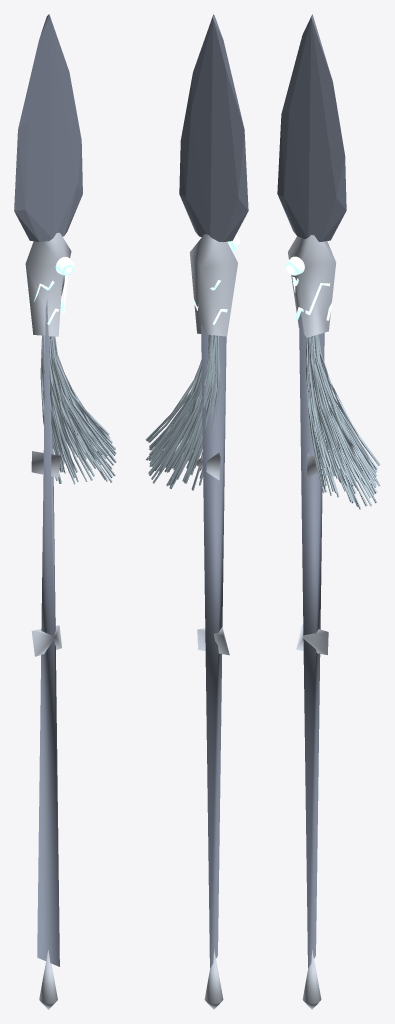
Rendered from phong-dinh-vo-cuc.glb.
3 views of the same model, side by side, from view 1: azimuth 30°, elevation 25°; view 2: azimuth 150°, elevation 25°; view 3: azimuth 330°, elevation 25° (orthographic).
Parts seen in each view (by area): view 1: head, shaft, tassel, socket, butt, band, band.001, socket_cloud, socket_gem; view 2: head, shaft, tassel, socket, butt, band, band.001; view 3: head, shaft, tassel, socket, butt, band, socket_cloud, socket_gem.
Boxes of the visible parts, <box> form: head: <box>14,14,82,241</box>; shaft: <box>37,300,59,966</box>; tassel: <box>40,335,116,484</box>; socket: <box>25,232,71,336</box>; butt: <box>39,950,57,1009</box>; band: <box>31,625,61,656</box>; band.001: <box>31,451,60,477</box>; socket_cloud: <box>28,275,67,324</box>; socket_gem: <box>55,256,74,275</box>; head: <box>179,14,248,242</box>; shaft: <box>201,324,226,968</box>; tassel: <box>145,335,220,490</box>; socket: <box>189,234,237,336</box>; butt: <box>204,949,223,1009</box>; band: <box>197,627,229,655</box>; band.001: <box>195,453,220,480</box>; head: <box>277,14,346,241</box>; shaft: <box>298,296,324,968</box>; tassel: <box>305,334,380,509</box>; socket: <box>288,235,336,337</box>; butt: <box>302,950,321,1009</box>; band: <box>296,624,328,654</box>; socket_cloud: <box>292,276,332,320</box>; socket_gem: <box>286,256,304,275</box>.
Size of the model in its own units: 0.1994 by 1.88 by 0.1217.
